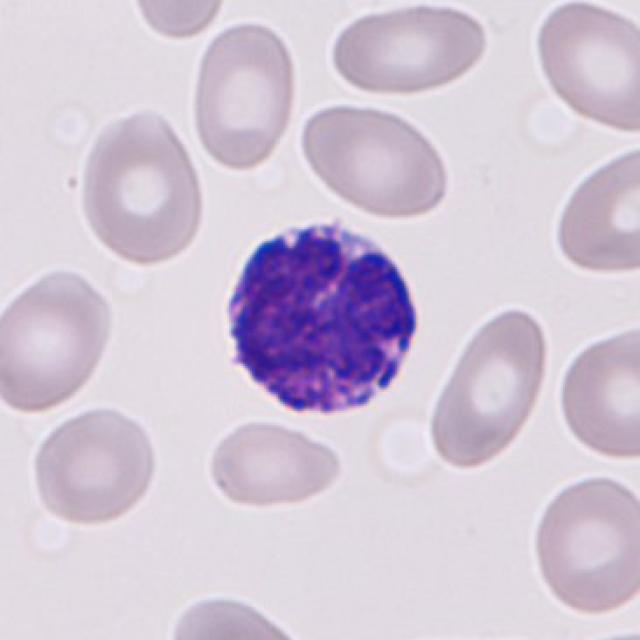basophil: (222, 220, 422, 413)
rbc: (423, 304, 549, 477), (290, 99, 470, 218), (77, 113, 204, 273), (528, 468, 640, 626), (0, 268, 115, 411), (322, 1, 493, 96), (190, 20, 294, 175), (29, 406, 162, 524), (538, 140, 640, 282), (527, 3, 640, 130), (201, 417, 349, 512), (558, 326, 640, 457), (161, 573, 307, 640), (137, 0, 224, 42)
